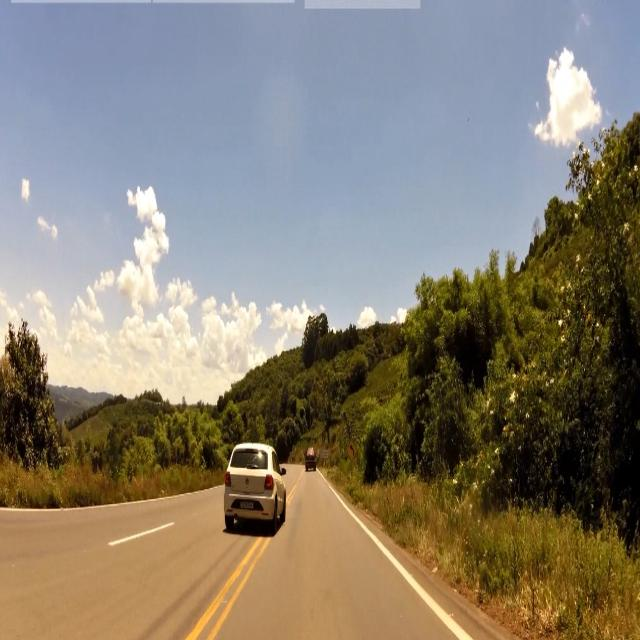R-7: (347, 440, 357, 460)
